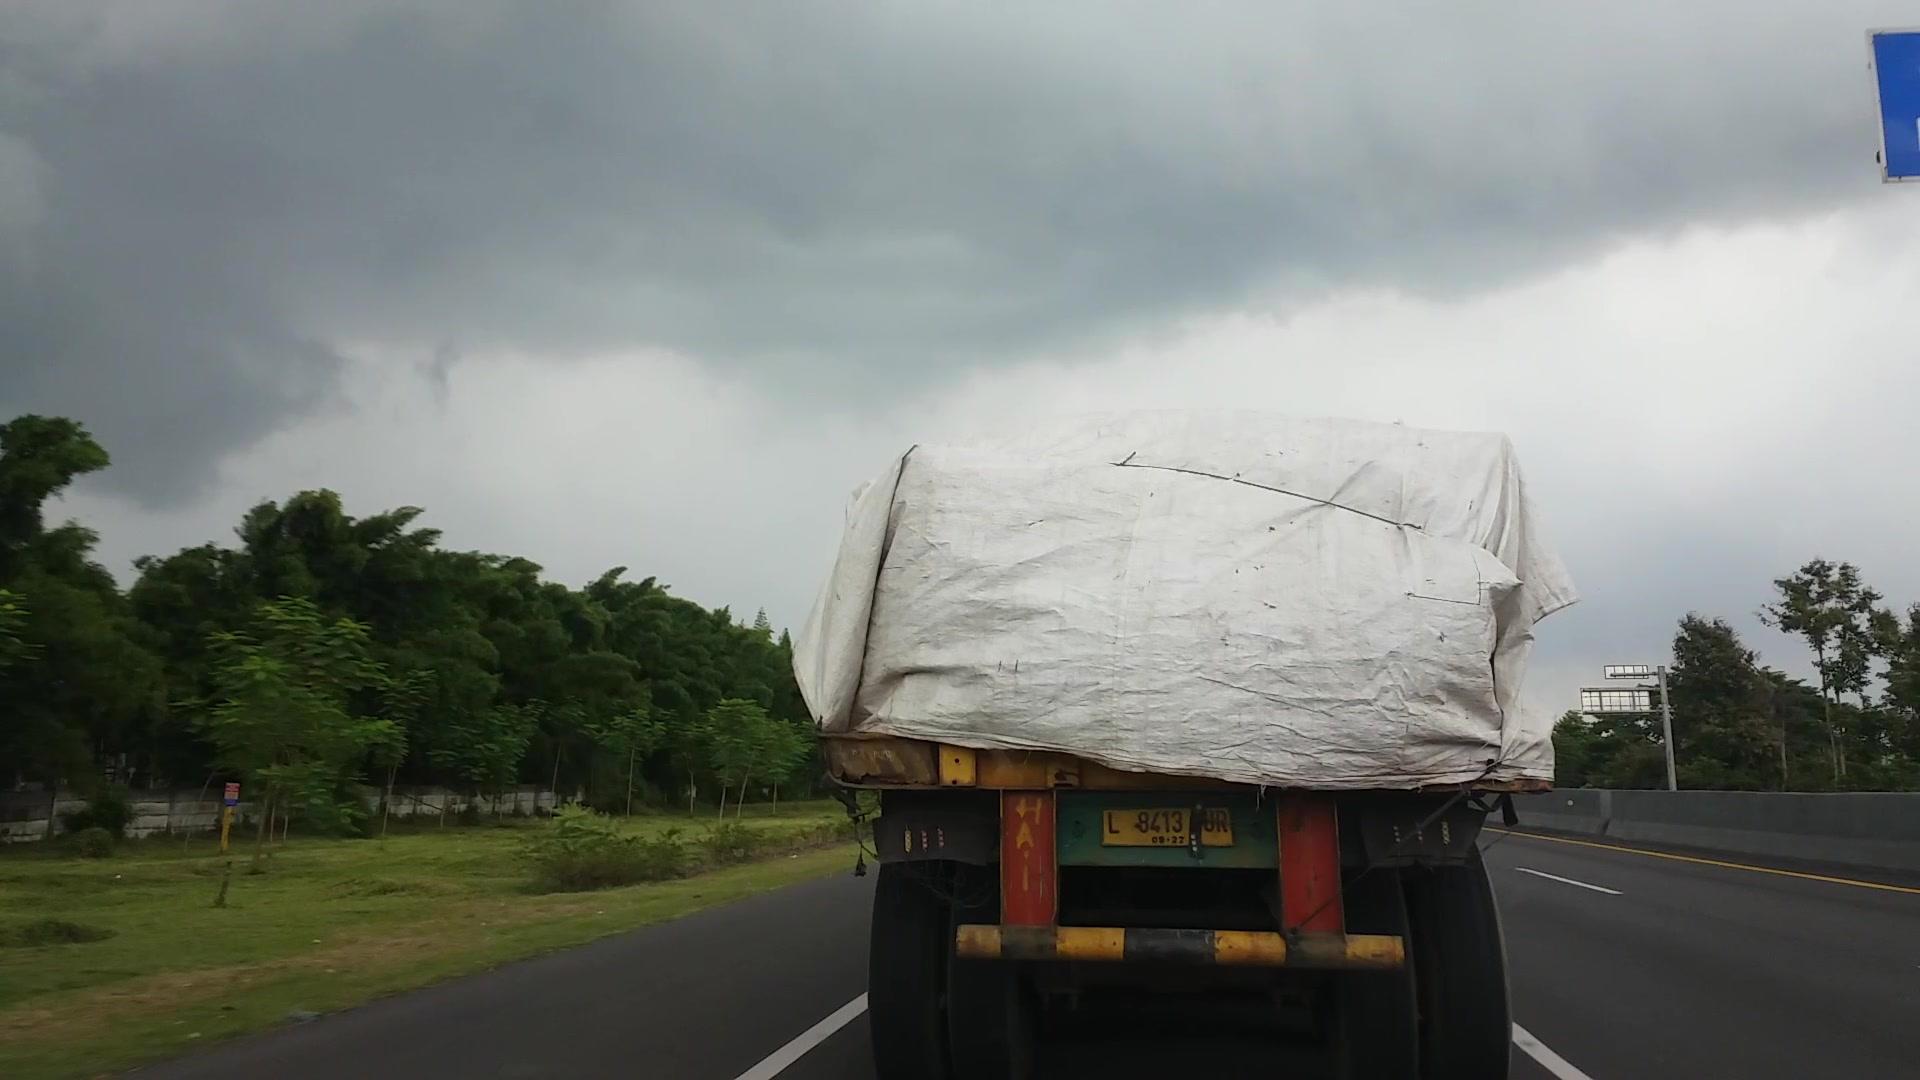plate_positive: (1101, 807, 1233, 848)
